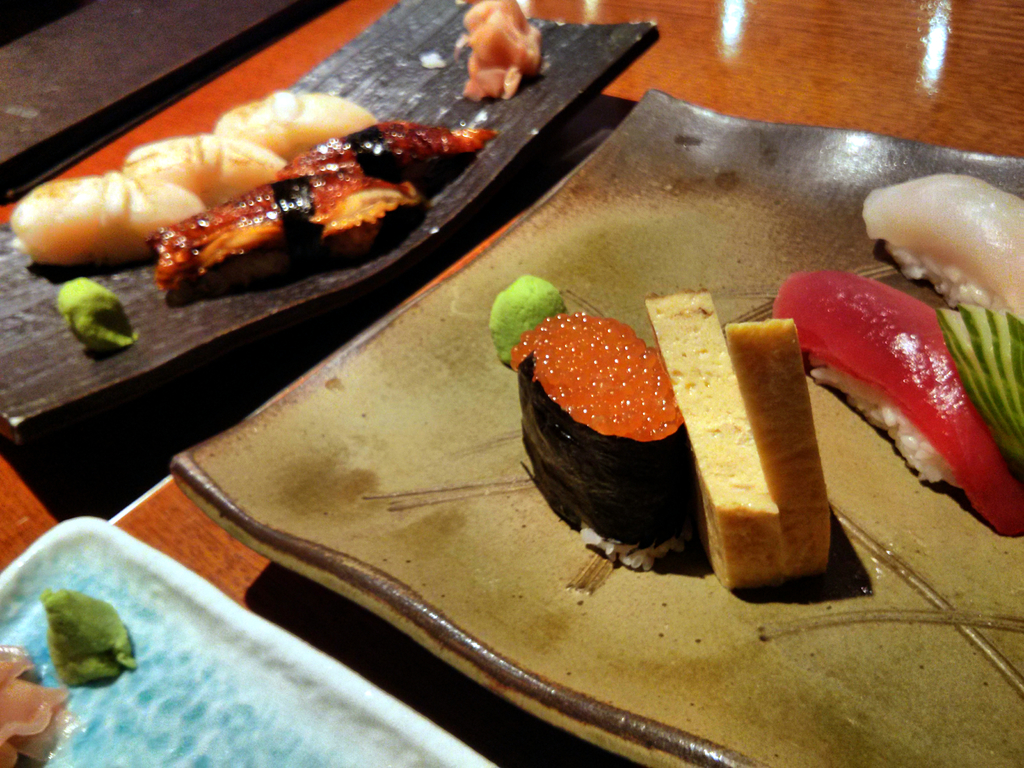sushi: (509, 312, 696, 577)
